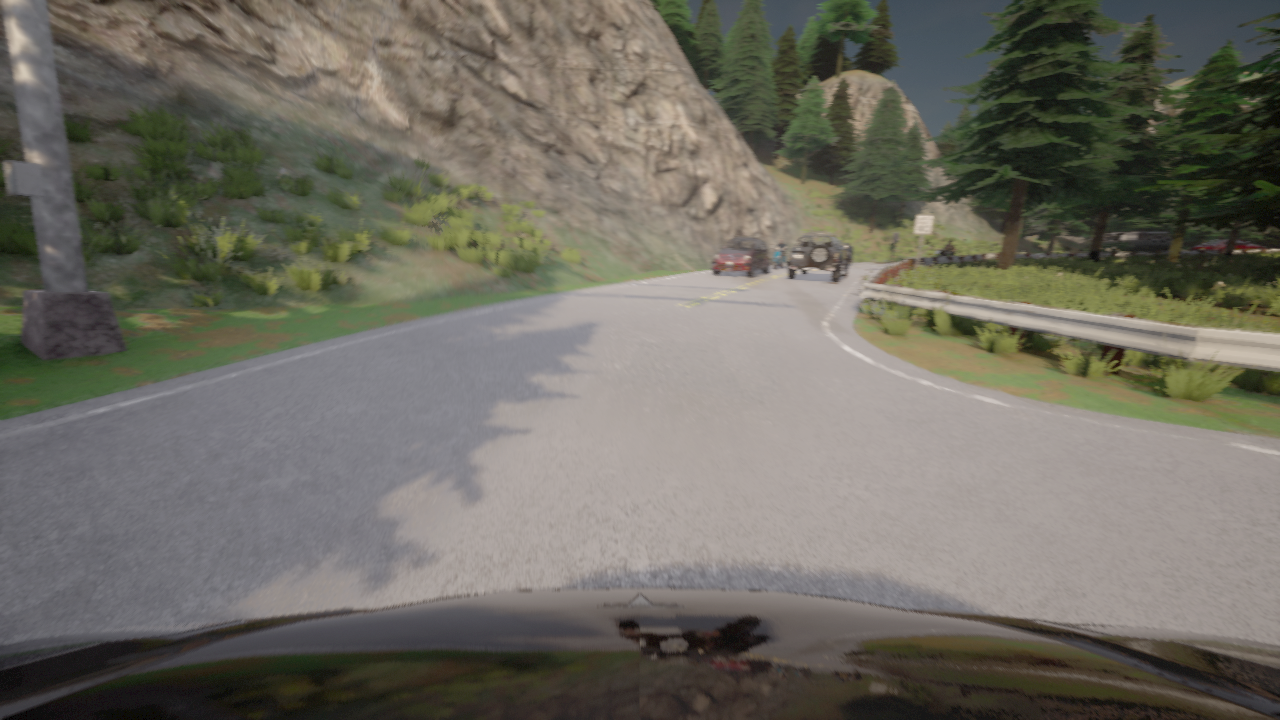cyclist: (0, 588, 1279, 719), (786, 232, 849, 282), (711, 237, 770, 276), (1100, 231, 1171, 252), (1190, 239, 1264, 250), (771, 245, 786, 269), (839, 242, 853, 265), (934, 246, 958, 256)
